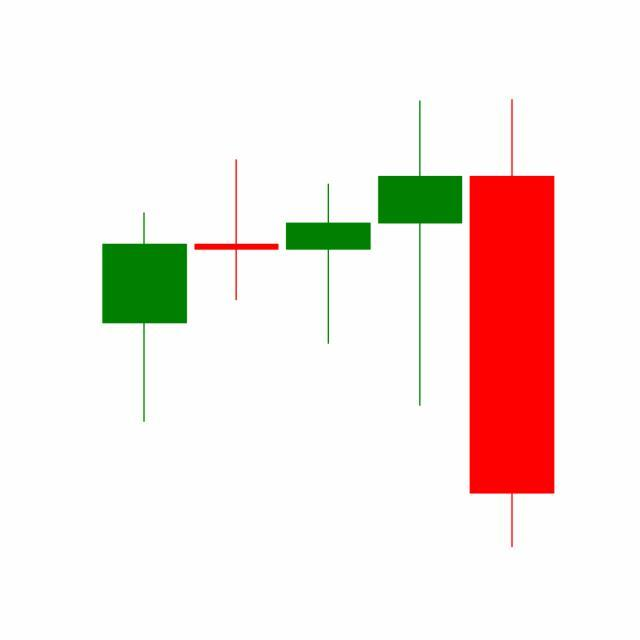Spinning Top: (374, 97, 468, 410)
